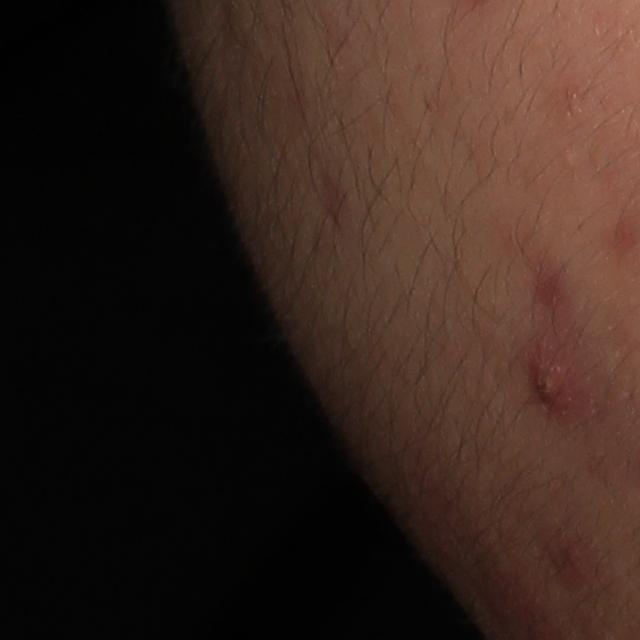papule: (521, 347, 574, 412)
